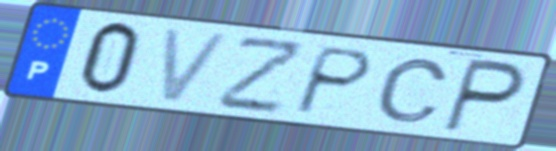0: (75, 19, 147, 101)
C: (372, 56, 453, 124)
P: (438, 55, 529, 136), (289, 43, 377, 117)
V: (157, 24, 237, 106)
Z: (214, 37, 311, 116)
